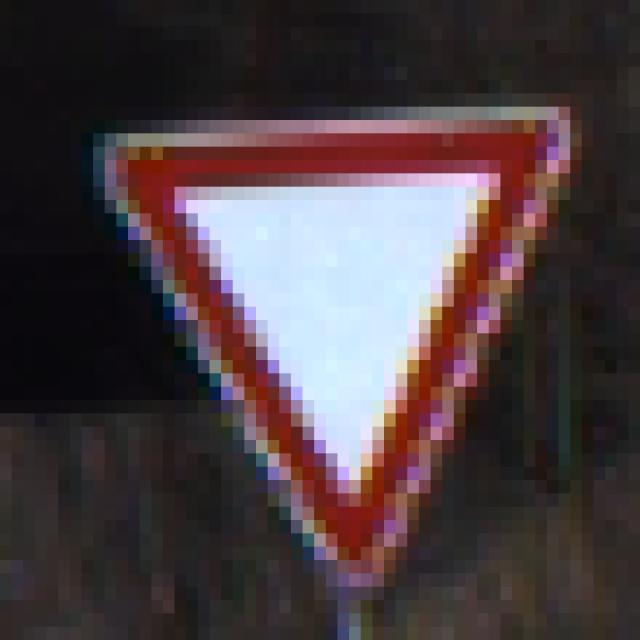Give Way: (71, 68, 583, 574)
